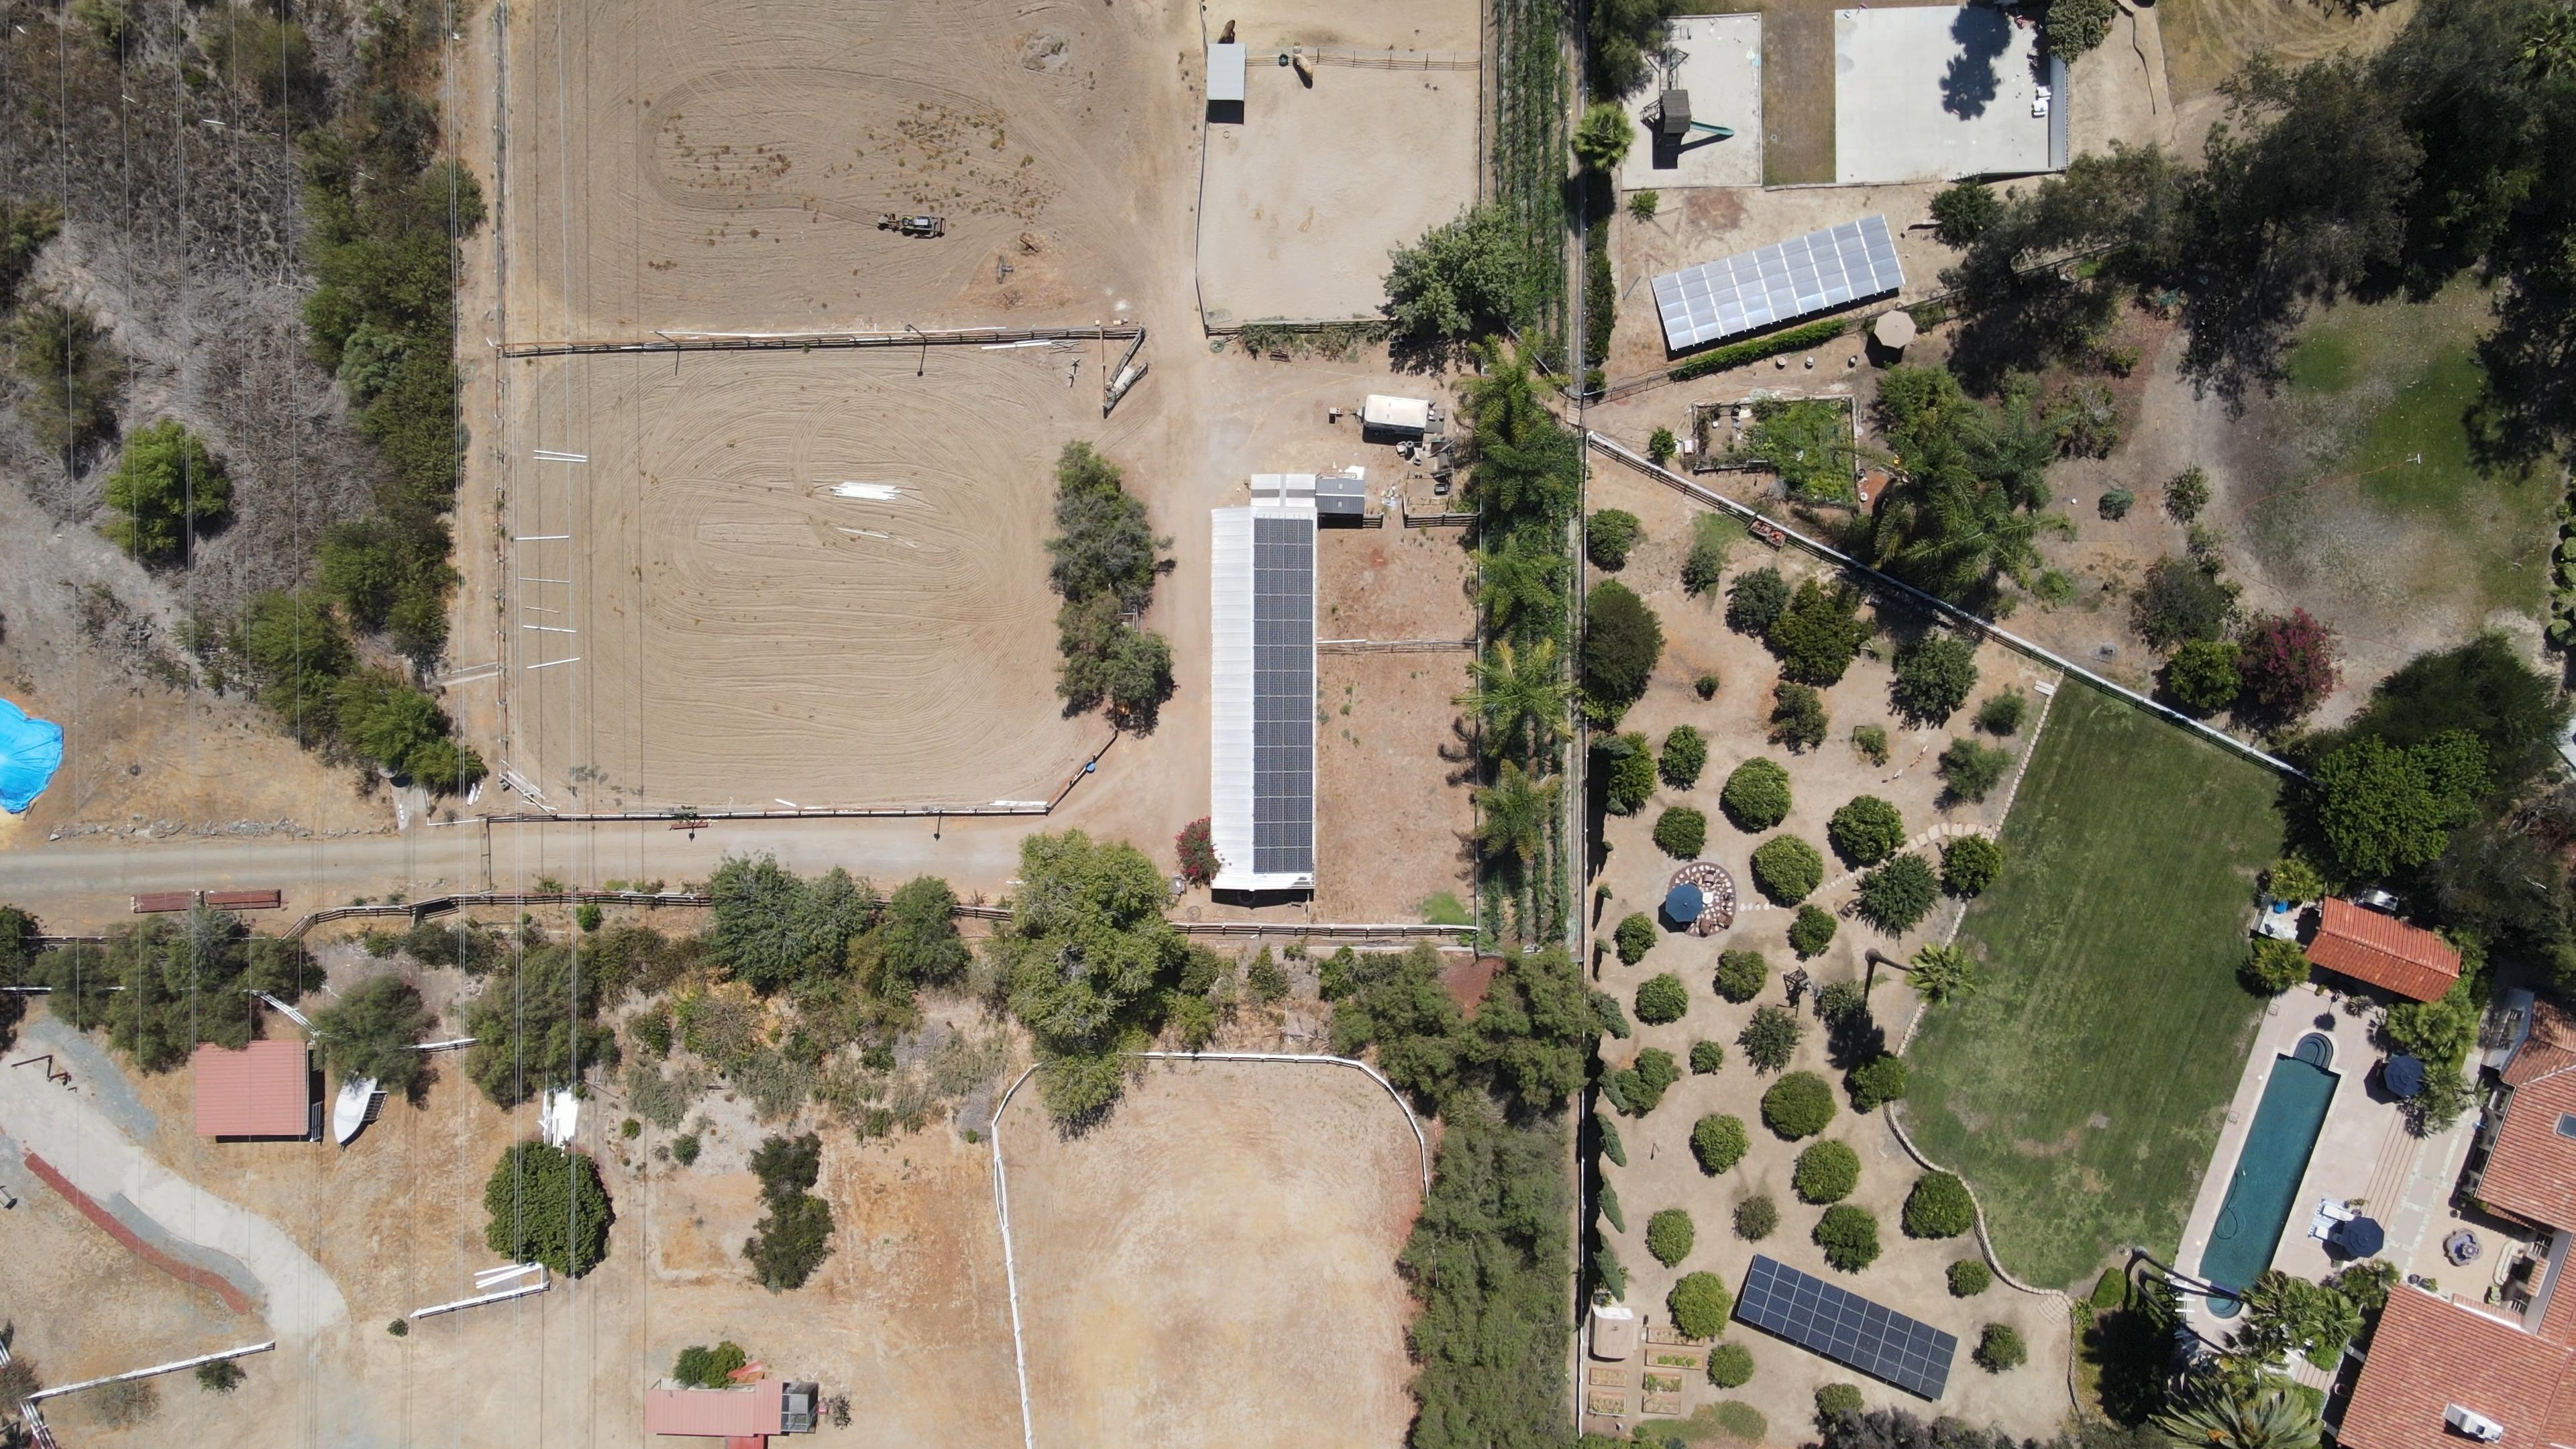panel: (1649, 211, 1905, 350), (1736, 1253, 1959, 1401), (1253, 517, 1315, 874)
